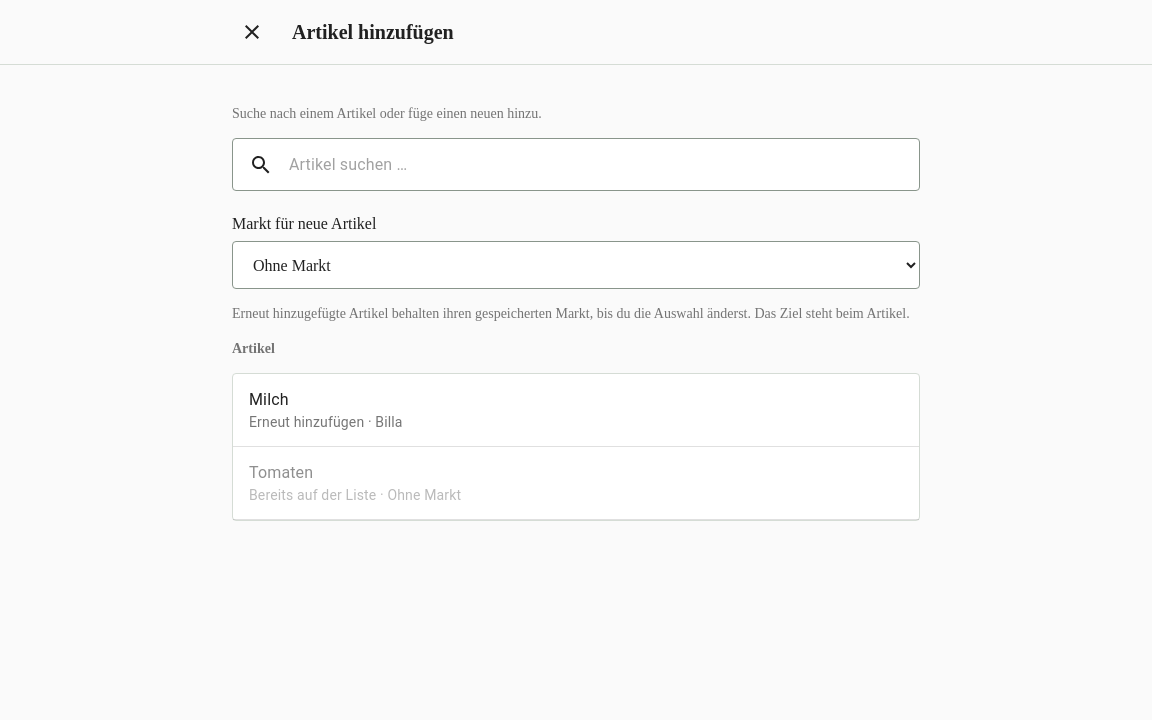
Test: re-adds history to its saved market and labels active matches as already on the list
Expected: the dialog shows "Milch", [249, 390, 289, 409]
Expected: the dialog shows "Bereits auf der Liste", [249, 487, 461, 503]
What coordinates should you click on to do the following:
click the button "Milch Erneut hinzufügen · Billa"
I would click on:
 (269, 400)
Its box is [249, 390, 403, 430].
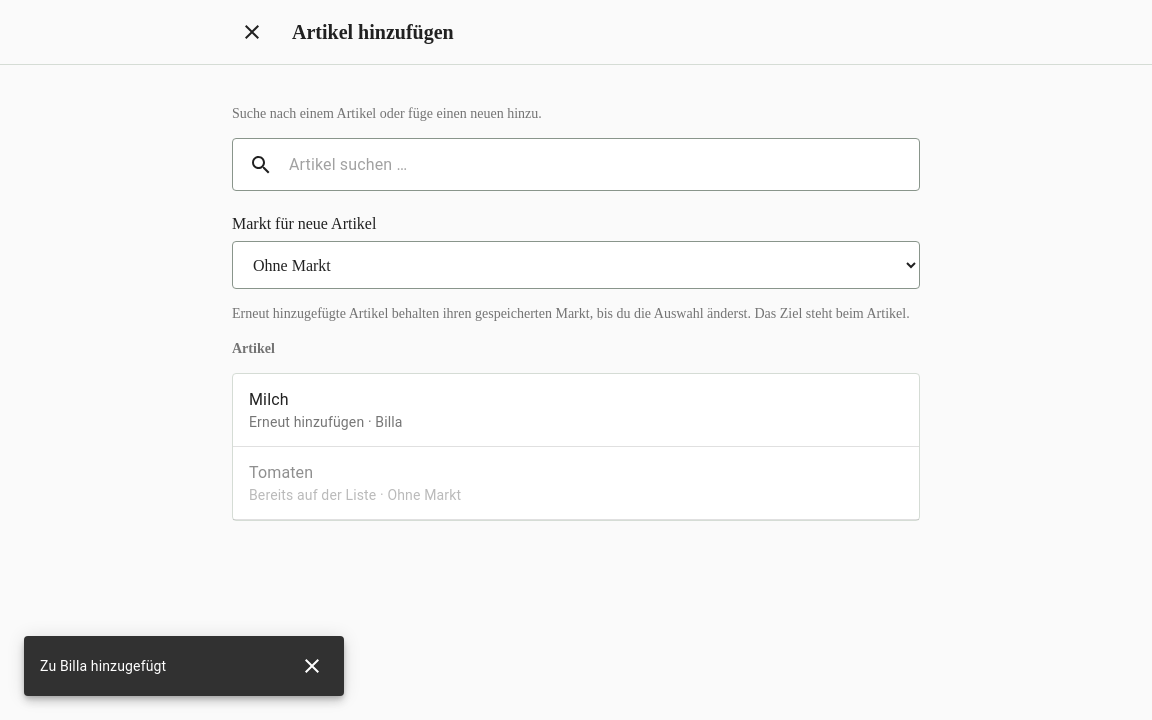
Now the text "Zu Billa hinzugefügt" is shown, box [40, 658, 166, 674]
